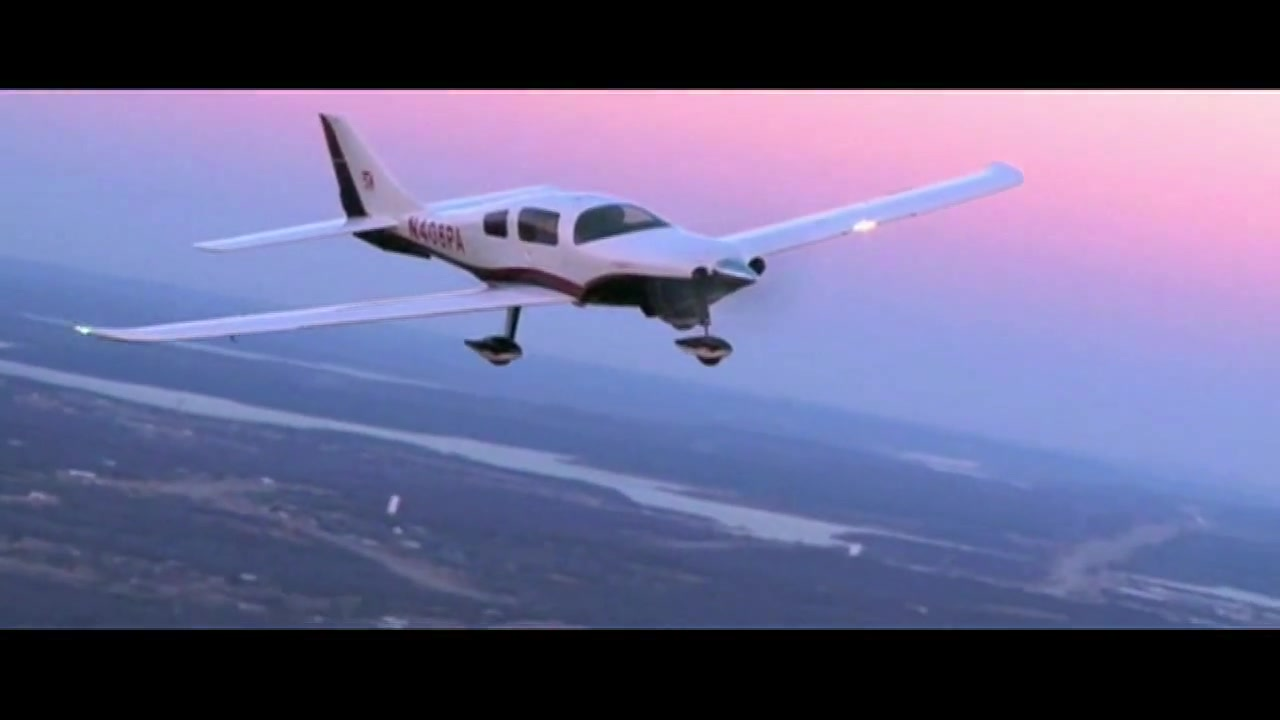aeroplane: (72, 113, 1024, 369)
